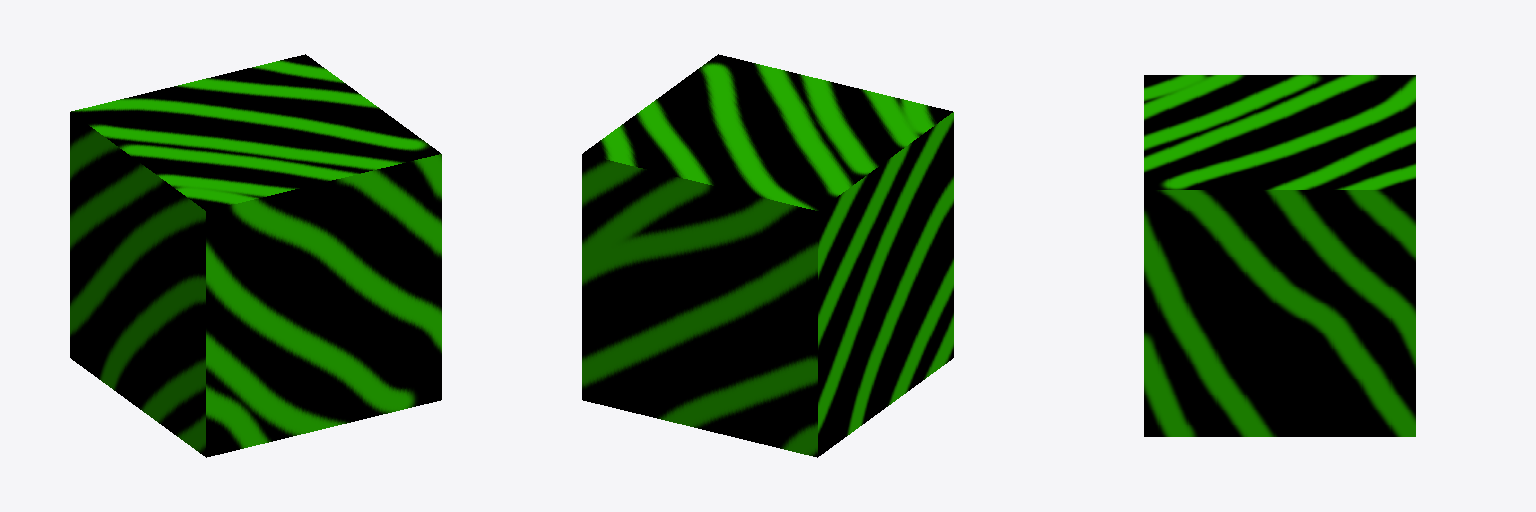
The picture shows the model from 3 angles: view 1: azimuth 30°, elevation 25°; view 2: azimuth 150°, elevation 25°; view 3: azimuth 270°, elevation 25°; orthographic projection.
Visible parts, largest first — view 1: Cube; view 2: Cube; view 3: Cube.
Boxes of the visible parts, <box> form: Cube: <box>70,54,441,457</box>; Cube: <box>582,54,953,457</box>; Cube: <box>1144,75,1415,436</box>.
Size of the model in its own units: 2 by 2 by 2.
Materials: 1 (1 with a texture image).